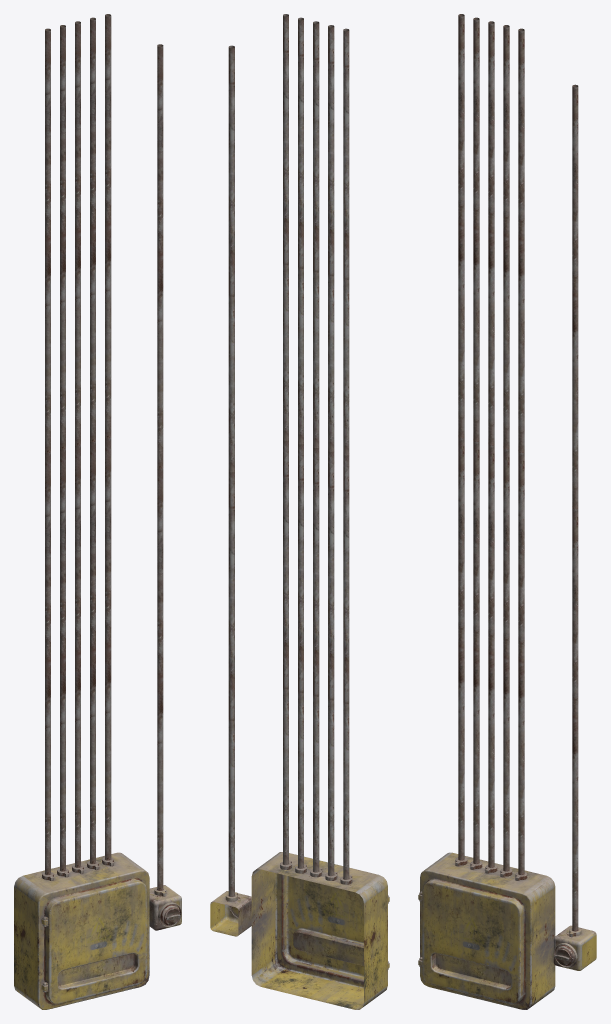
File: SM_ElectriBox03.glb
3 views of the same model, side by side, from view 1: azimuth 30°, elevation 25°; view 2: azimuth 150°, elevation 25°; view 3: azimuth 330°, elevation 25° (orthographic).
Visible parts, largest first — view 1: SM_ElectriBox03; view 2: SM_ElectriBox03; view 3: SM_ElectriBox03.
Boxes of the visible parts, bbox=[...] form: SM_ElectriBox03: bbox=[14, 14, 181, 1009]; SM_ElectriBox03: bbox=[210, 14, 389, 1009]; SM_ElectriBox03: bbox=[418, 14, 596, 1009].
Bounding box in the file's own units: 0.6842 × 4.13 × 0.2212.
1 material, 1 textured.
